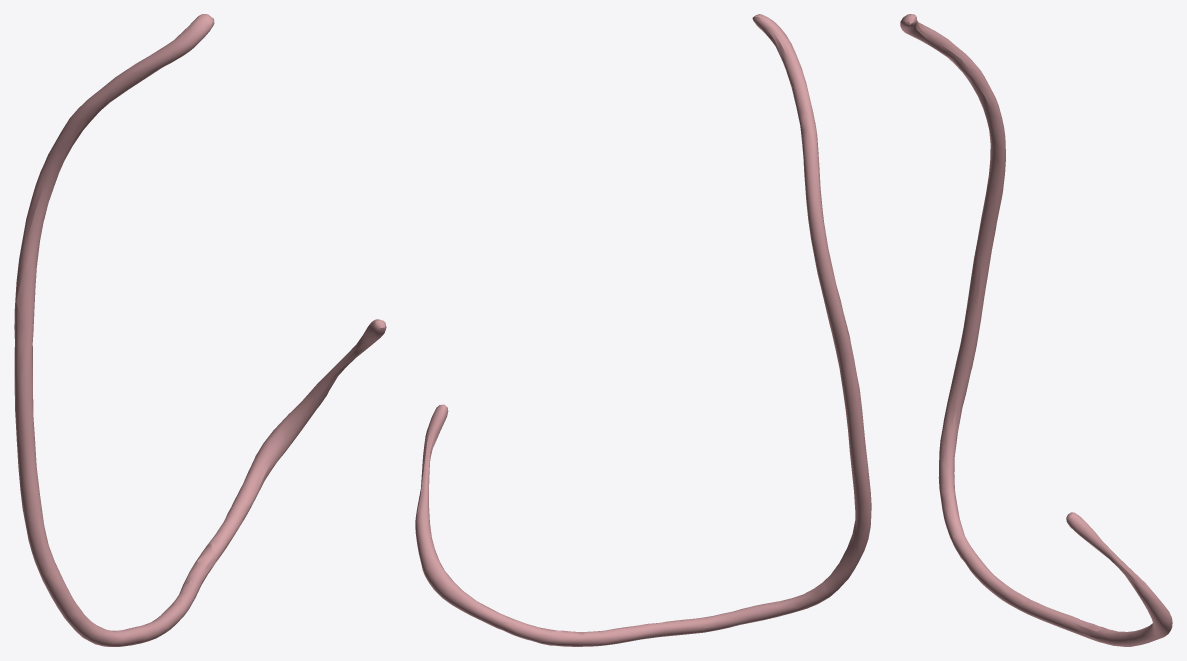
Rendered from fma9483_mm582.glb.
3 renders of one model, left to right at view 1: azimuth 30°, elevation 25°; view 2: azimuth 150°, elevation 25°; view 3: azimuth 270°, elevation 25°, orthographic. The views are drawn at different scales.
Parts seen in each view (by area): view 1: FMA9483_MM582; view 2: FMA9483_MM582; view 3: FMA9483_MM582.
Part boxes in pixels (x1,y1,x2,y2): FMA9483_MM582: (14,14,386,646); FMA9483_MM582: (415,14,871,646); FMA9483_MM582: (900,14,1172,646).
Bounding box in the file's own units: 0.0417 × 0.0617 × 0.0262.
